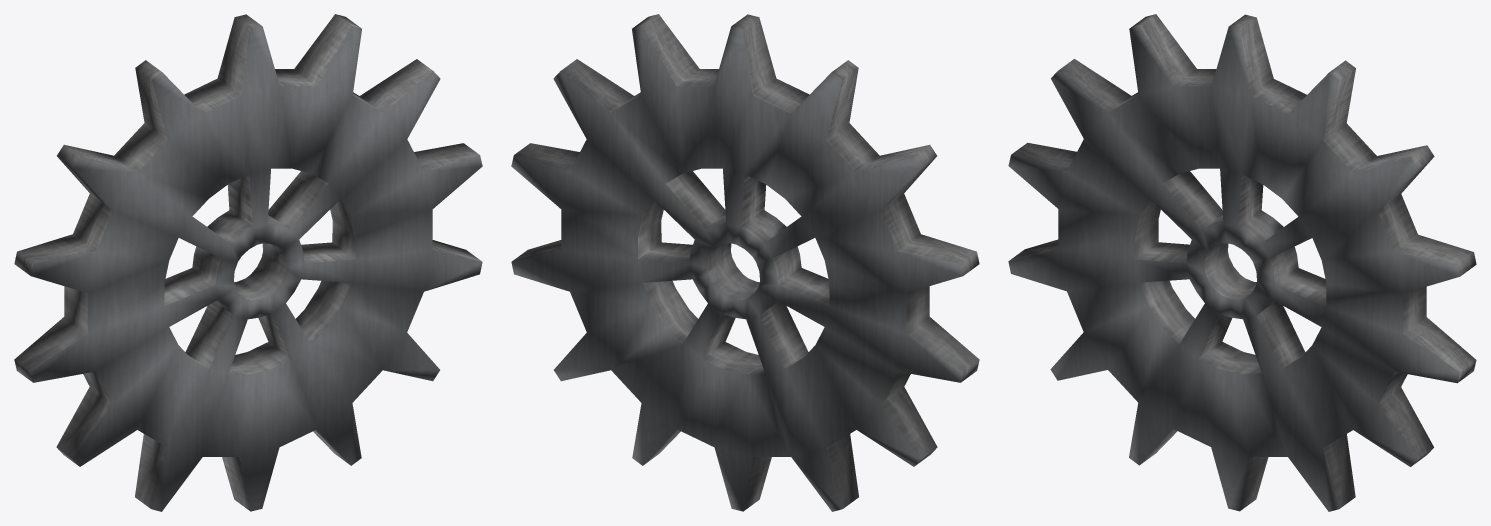
3 renders of one model, left to right at view 1: azimuth 30°, elevation 25°; view 2: azimuth 150°, elevation 25°; view 3: azimuth 330°, elevation 25°, orthographic.
Parts seen in each view (by area): view 1: gear_14; view 2: gear_14; view 3: gear_14.
Boxes of the visible parts, left/top/right/bottom form: gear_14: left=14, top=14, right=482, bottom=511; gear_14: left=511, top=14, right=979, bottom=511; gear_14: left=1008, top=14, right=1476, bottom=511.
Bounding box in the file's own units: 2.22 × 2.26 × 0.2.
1 material, 1 textured.
